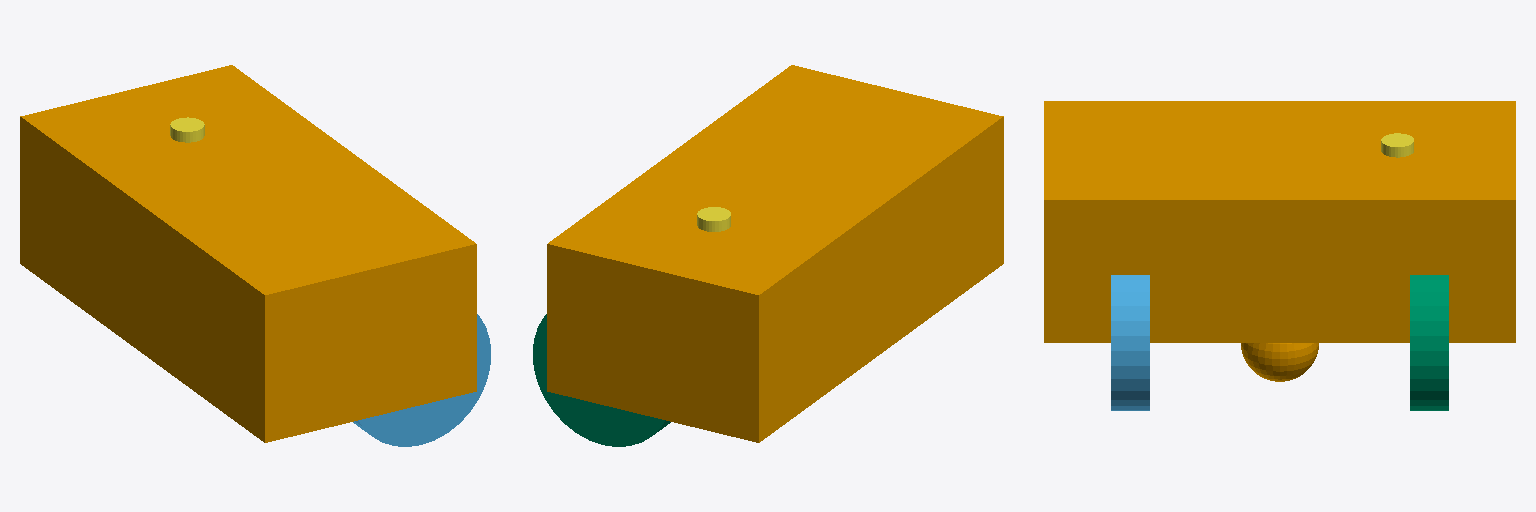
robot.urdf — orthopillar:
<?xml version="1.0" ?>
<robot name="orthopillar">

<link name="chassis">
    
    
    
    <collision name="collision">
    <origin xyz="0 0 0.2 "/> 
      <geometry>
        <box size="0.3 0.6 0.2"/>
      </geometry>
    </collision>
    
    <visual name="visual">
     <origin xyz="0 0 0.2 "/> 
      <geometry>
         <!-- <mesh filename="package://orthopillar_robot_spawner_pkg/models/ortho_meshes/meshes/orthopillar.stl" scale="0.25 0.25 0.25 " /> -->
      <box size="0.3 0.6 0.2"/>
      </geometry>
    </visual>
    
    <collision name="caster_collision">
    <origin rpy="0  0  0" xyz="0 0    0.03"/>
      <geometry>
        <sphere radius=".05"/>
      </geometry>
 </collision>
    
    <visual name="caster_visual">
    <origin rpy="0  0  0" xyz="0  0  0.03"/>
      <geometry>
        <sphere radius=".05"/>
      </geometry>
    </visual>
  </link>
  


  <link name="right_wheel">
     
    <collision name="collision">
     <origin rpy="0  0  0" xyz="0    0    -0.03"/>
      <geometry>
        <cylinder length=".05" radius=".1"/>
      </geometry>
    </collision>
    
    <visual name="visual">
  <origin rpy="0  0  0" xyz="0    0    -0.03"/>
      <geometry>
        <cylinder length=".05" radius=".1"/>
      </geometry>
    </visual>
  </link>

<link name="left_wheel">
   
    <collision name="collision">
      <!-- <origin xyz="-0.15 -0.13 0.4 " rpy=" 0 0 1.5707 " /> -->
      <origin rpy="0  0  0" xyz="0    0    0.03"/>
      <geometry>
        <cylinder length=".05" radius=".1"/>
      </geometry>
    </collision>
     
     
    <visual name="visual">
     <origin rpy="0  0  0" xyz="0    0    0.03"/>
      <geometry>
        <cylinder length=".05" radius=".1"/>
      </geometry>
    </visual>
  </link>

  <joint name="left_wheel_hinge" type="revolute">
    <parent link="chassis"/>
    <child link="left_wheel"/>
    <origin rpy="0      1.5707  1.5707" xyz="0.11999  0.16     0.09999"/>
    <axis xyz="0  0   1"/>
    <limit effort="10000" velocity="1000"/>
    <joint_properties damping="1.0" friction="1.0"/> 
   
  </joint>
  
  <joint name="right_wheel_hinge" type="revolute">
    <parent link="chassis"/>
    <child link="right_wheel"/>
    <origin rpy="0      1.5707  1.5707" xyz="0.12 -0.16  0.1"/>
    <axis xyz="0 0 1"/>
     <limit effort="10000" velocity="1000"/>
    <joint_properties damping="1.0" friction="1.0"/> 
  </joint>
  
  

  <plugin name='diff_drive' filename='libgazebo_ros_diff_drive.so'>
         <ros>
           <namespace>/demo</namespace>
           <remapping>cmd_vel:=cmd_vel</remapping>
           <remapping>odom:=odom</remapping>
         </ros>

         <!-- wheels -->
         <left_joint>left_wheel_hinge</left_joint>
         <right_joint>right_wheel_hinge</right_joint>

         <!-- kinematics -->
         <wheel_separation>0.26</wheel_separation>
         <wheel_diameter>0.2</wheel_diameter>

         <!-- limits -->
         <max_wheel_torque>20</max_wheel_torque>
         <max_wheel_acceleration>1.0</max_wheel_acceleration>

         <!-- output -->
         <publish_odom>true</publish_odom>
         <publish_odom_tf>true</publish_odom_tf>
         <publish_wheel_tf>true</publish_wheel_tf>

         <odometry_frame>odom</odometry_frame>
         <robot_base_frame>chassis</robot_base_frame>
       </plugin>      
    
    
    <link name="laser_link">
    <inertial>
      <mass value="0.1"/>
      <origin rpy="0  0  0" xyz="0  0  0"/>
      <inertia ixx="0" ixy="0" ixz="0" iyy="0" iyz="0" izz="0"/>
    </inertial>
    <collision name="collision-base">
      <origin rpy="0  0  0" xyz="0      0     -0.0145"/>
      <geometry>
        <box size="0.05 0.05 0.041"/>
      </geometry>
    </collision>
    <collision name="collision-top">
      <origin rpy="0  0  0" xyz="0      0      0.0205"/>
      <geometry>
        <cylinder length="0.029" radius="0.021"/>
      </geometry>
    </collision>
    <visual name="visual">
      <origin rpy="0  0  0" xyz="0  0  0"/>
      <geometry>
         <cylinder length="0.029" radius="0.021"/>
      </geometry>
    </visual>
  </link>
 
<joint name="laser_joint" type="fixed">
    <parent link="chassis"/>
    <child link="laser_link"/>
    <origin rpy="0  0  1.5707" xyz="0  0.15    0.3"/>
    <axis xyz="0  0  0"/>
   
  </joint>


</robot>

--- Facts derived from the render (not from the file) ---
The picture shows the robot from 3 angles, left to right: view 1: azimuth 30°, elevation 25°; view 2: azimuth 150°, elevation 25°; view 3: azimuth 270°, elevation 25°; orthographic projection.
Model orthopillar with 4 links and 3 joints (2 revolute, 1 fixed), rooted at chassis, posed all joints at 0.
Links seen in each view (by area): view 1: chassis, right_wheel, laser_link; view 2: chassis, left_wheel, laser_link; view 3: chassis, right_wheel, left_wheel, laser_link.
Link boxes in pixels (box(x1,y1,x2,y2)): chassis: box(20, 65, 476, 442); right_wheel: box(353, 314, 490, 446); laser_link: box(170, 117, 204, 142); chassis: box(547, 65, 1003, 442); left_wheel: box(533, 314, 670, 446); laser_link: box(697, 207, 730, 231); chassis: box(1044, 101, 1515, 381); right_wheel: box(1111, 275, 1149, 410); left_wheel: box(1410, 275, 1448, 410); laser_link: box(1381, 133, 1413, 157).
Size in the robot's own frame: 0.37 by 0.6 by 0.3345 metres.
Geometry: primitives only (box / cylinder / sphere), no mesh files.